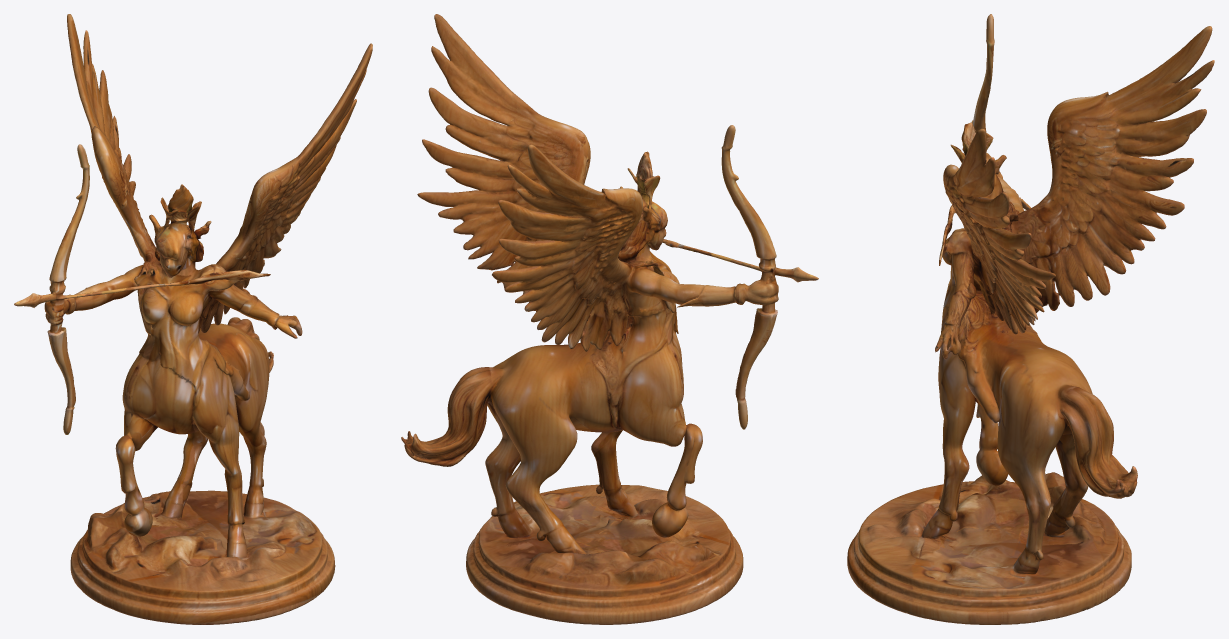
File: VAULTARCHER.glb
The picture shows the model from 3 angles, left to right: view 1: azimuth 30°, elevation 25°; view 2: azimuth 150°, elevation 25°; view 3: azimuth 270°, elevation 25°; orthographic projection. The views are drawn at different scales.
Size of the model in its own units: 1.56 by 2 by 1.27.
1 material, 1 textured.
